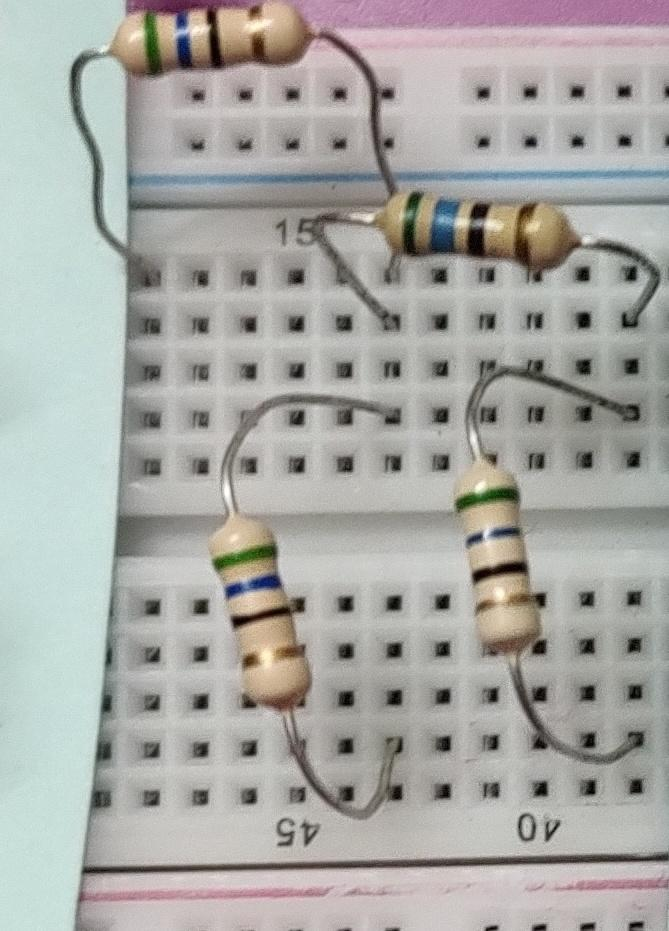resistor: (193, 507, 334, 721), (445, 449, 562, 669), (371, 171, 584, 285), (101, 0, 318, 93)
